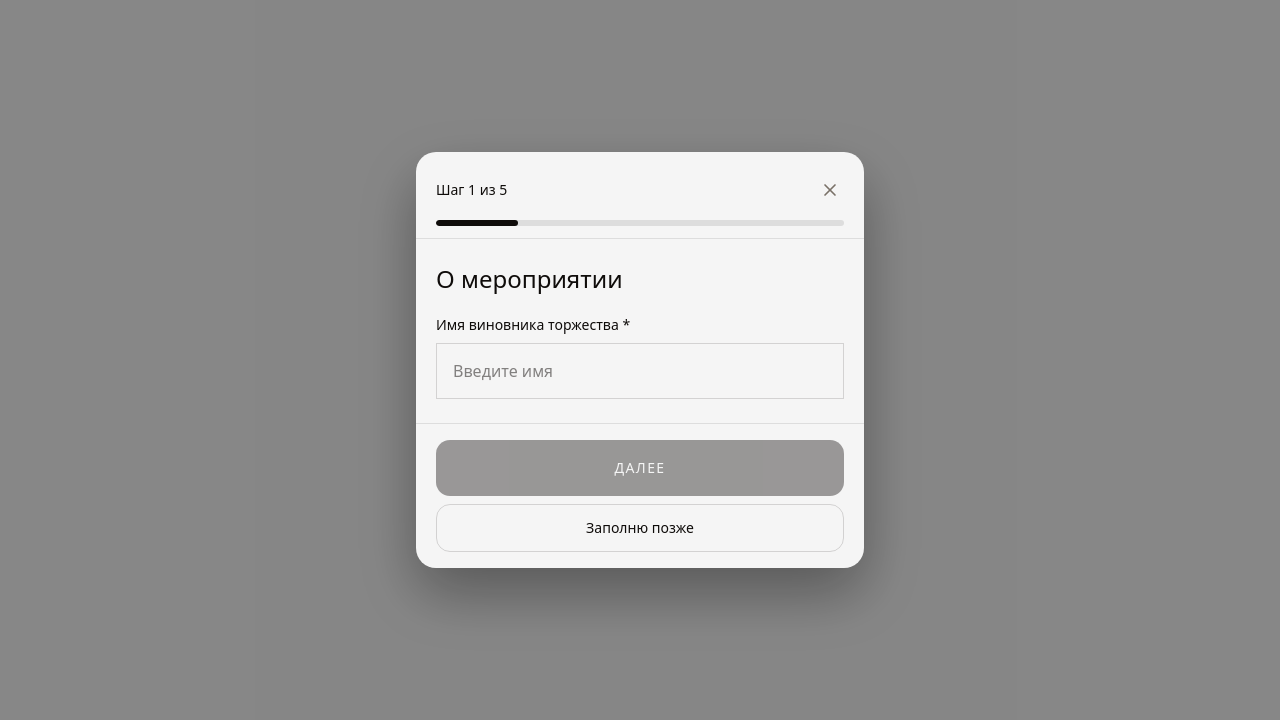
Test: пошаговое заполнение › показывает прогресс, только поддерживаемые шаги, и сохраняет каждое изменение сразу
This screenshot has width=1280, height=720.
expect the text "Шаг 1 из 5" is shown: met, box [436,180,507,200]
expect the button "Далее" is disabled: met, box [436,440,844,496]
Type "Айдана" into the field with placeholder "Введите имя".
click(640, 371); type("Айдана")  # box [436,343,844,399]
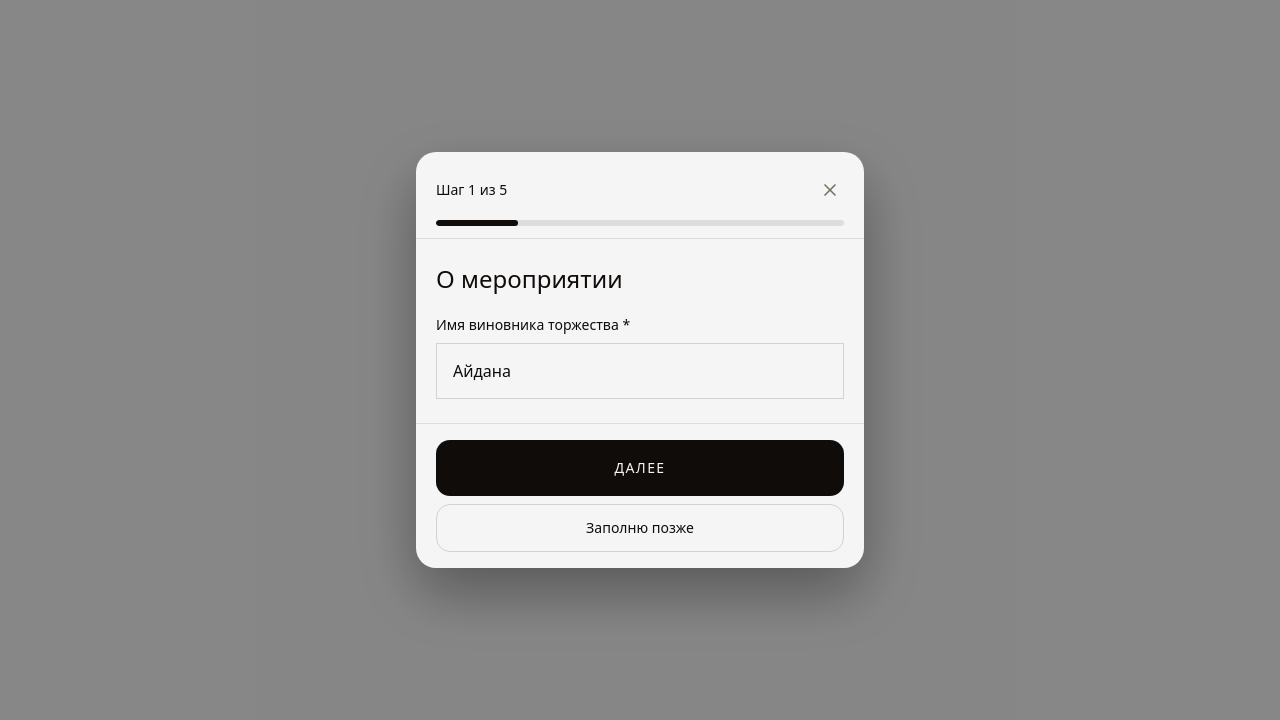
expect the button "Далее" is enabled: met, box [436,440,844,496]
